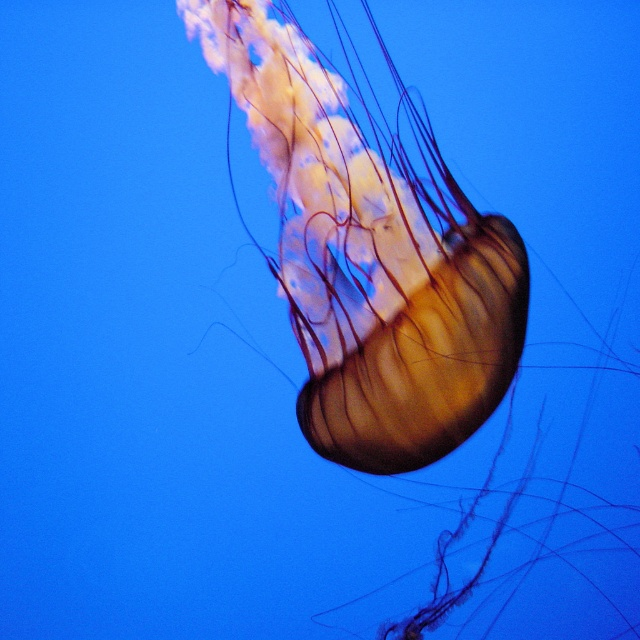Jellyfish: (172, 0, 530, 477)
